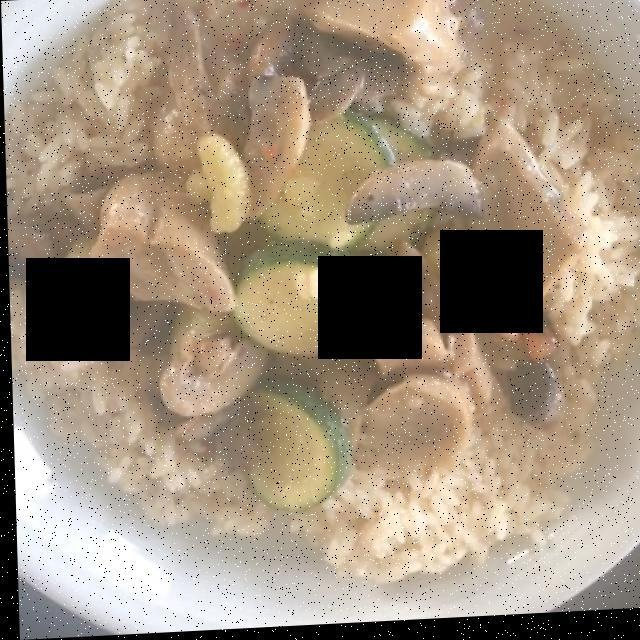mushroom-stew: (26, 0, 587, 488)
rice: (10, 0, 636, 581)
sauce: (456, 0, 625, 145)
zucchini: (237, 111, 442, 514)
